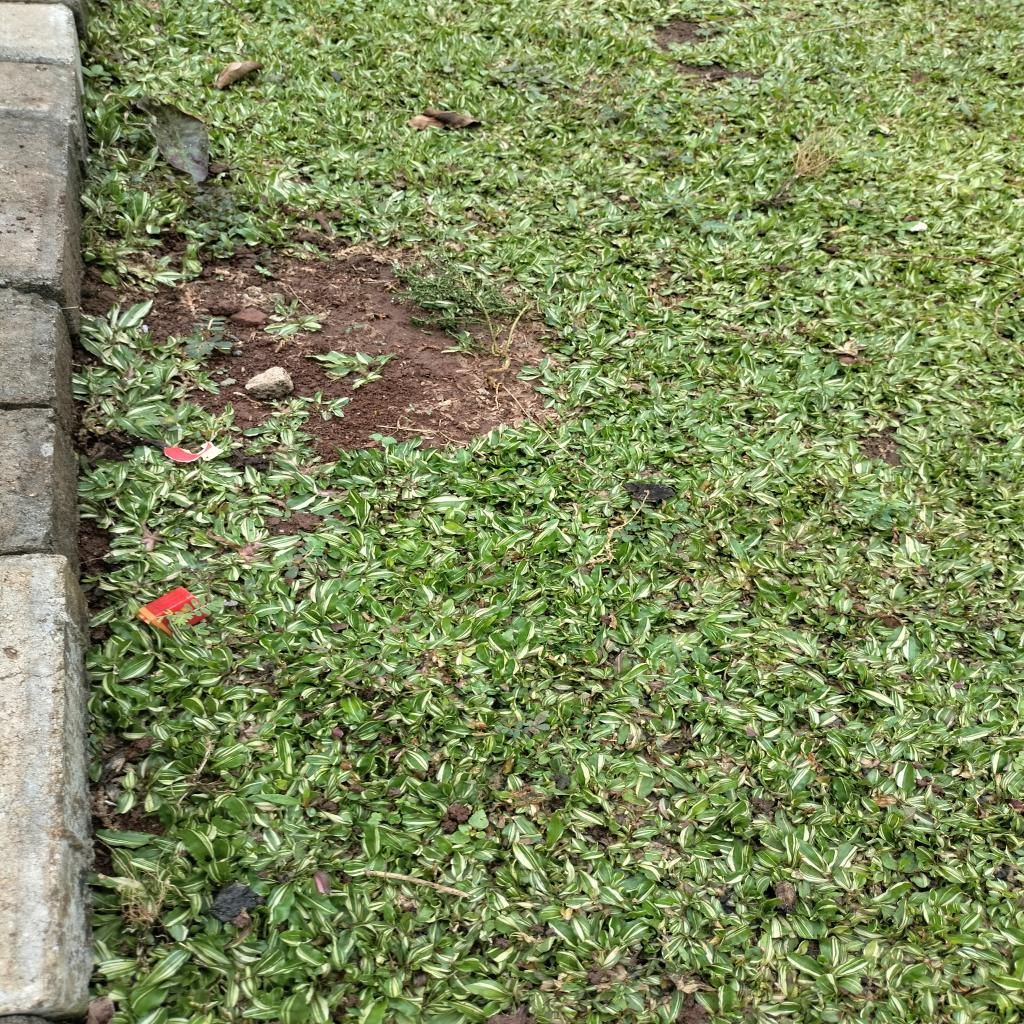bayi: (404, 414, 414, 422), (216, 275, 226, 282), (408, 403, 416, 411), (427, 408, 434, 417), (202, 289, 213, 293)
buah daun: (155, 592, 229, 634), (272, 537, 328, 583), (186, 312, 236, 363), (500, 711, 552, 743), (682, 207, 731, 235)
clover: (660, 522, 682, 540), (612, 528, 633, 543), (685, 514, 703, 530), (622, 519, 642, 533), (651, 545, 669, 556), (678, 551, 695, 562), (677, 498, 690, 512), (637, 542, 652, 554)
gingseng jawa: (257, 785, 322, 818)
lumut besar: (506, 560, 518, 570)
rambat atas: (674, 361, 694, 381)
ungu tunggang: (184, 180, 247, 259), (455, 60, 556, 96), (457, 808, 492, 841)
